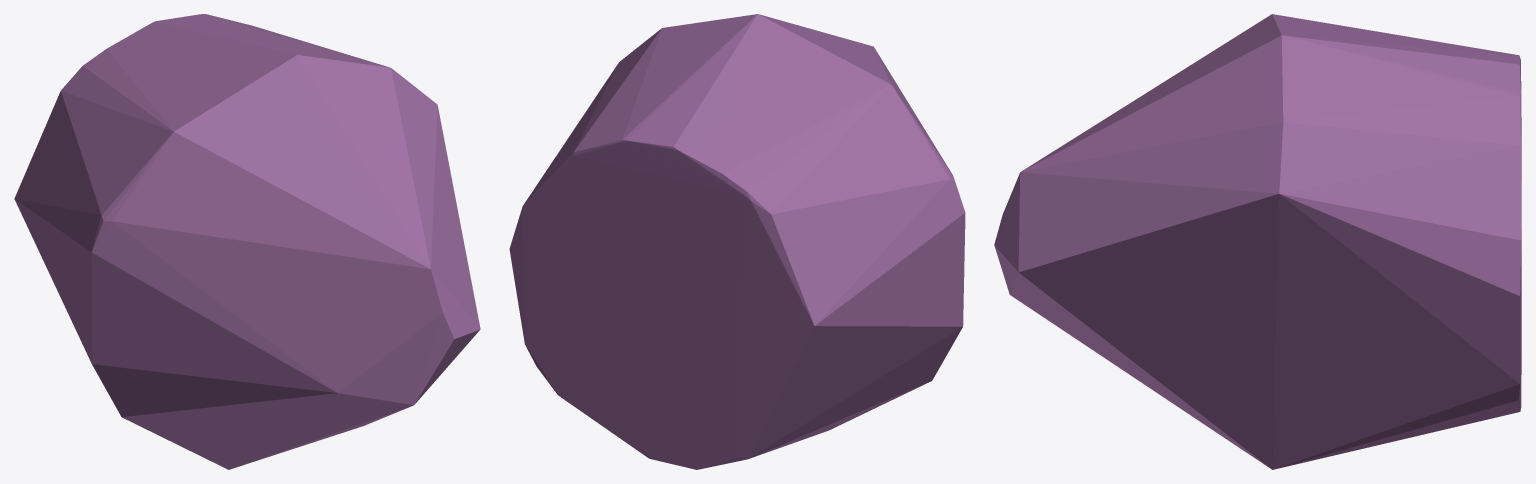
Rendered from food_prepared_cupcake_c01.glb.
The picture shows the model from 3 angles, left to right: view 1: azimuth 30°, elevation 25°; view 2: azimuth 150°, elevation 25°; view 3: azimuth 270°, elevation 25°; orthographic projection. The views are drawn at different scales.
Parts seen in each view (by area): view 1: geometry_0; view 2: geometry_0; view 3: geometry_0.
Part boxes in pixels (<box>): geometry_0: <box>14,14,480,469</box>; geometry_0: <box>509,14,965,469</box>; geometry_0: <box>994,14,1521,469</box>.
Size of the model in its own units: 0.3779 by 0.4159 by 0.4756.
